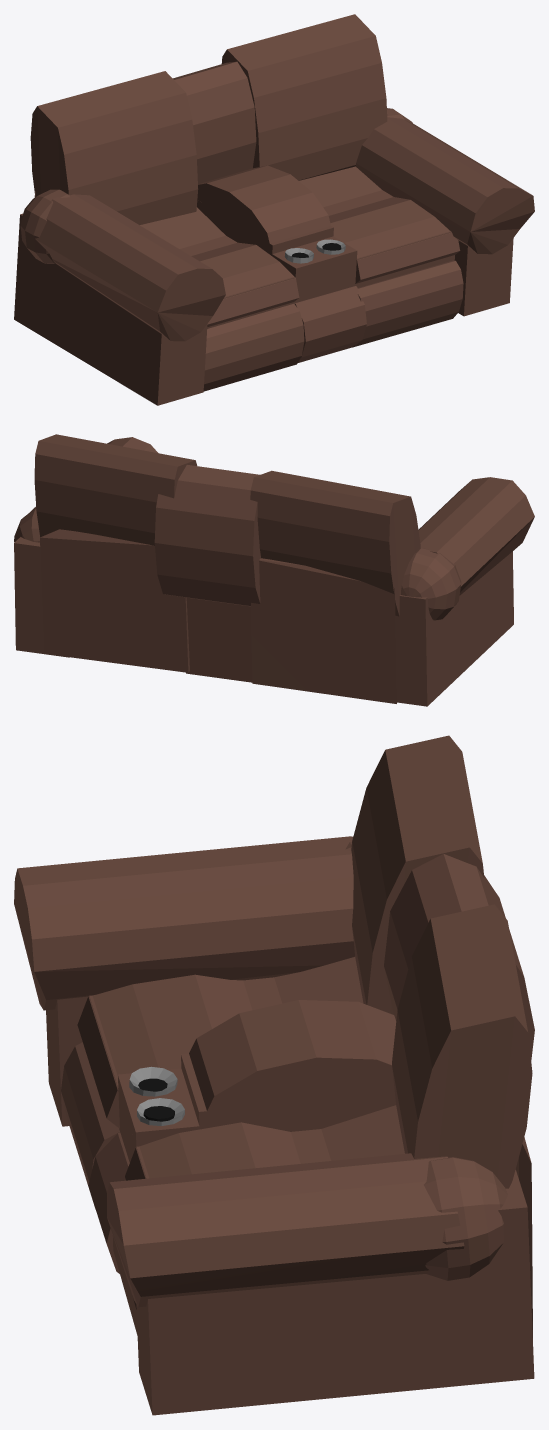
The picture shows the model from 3 angles, top to bottom: view 1: azimuth 30°, elevation 25°; view 2: azimuth 150°, elevation 25°; view 3: azimuth 270°, elevation 25°; orthographic projection. The views are drawn at different scales.
Parts seen in each view (by area): view 1: node_MeshObject-969454400-PolyPaper23; view 2: node_MeshObject-969454400-PolyPaper23; view 3: node_MeshObject-969454400-PolyPaper23.
Part boxes in pixels (box(x1,y1,x2,y2)): node_MeshObject-969454400-PolyPaper23: box(14, 14, 534, 405); node_MeshObject-969454400-PolyPaper23: box(14, 434, 534, 706); node_MeshObject-969454400-PolyPaper23: box(14, 735, 534, 1415).
Size of the model in its own units: 0.5212 by 0.2634 by 0.324.
